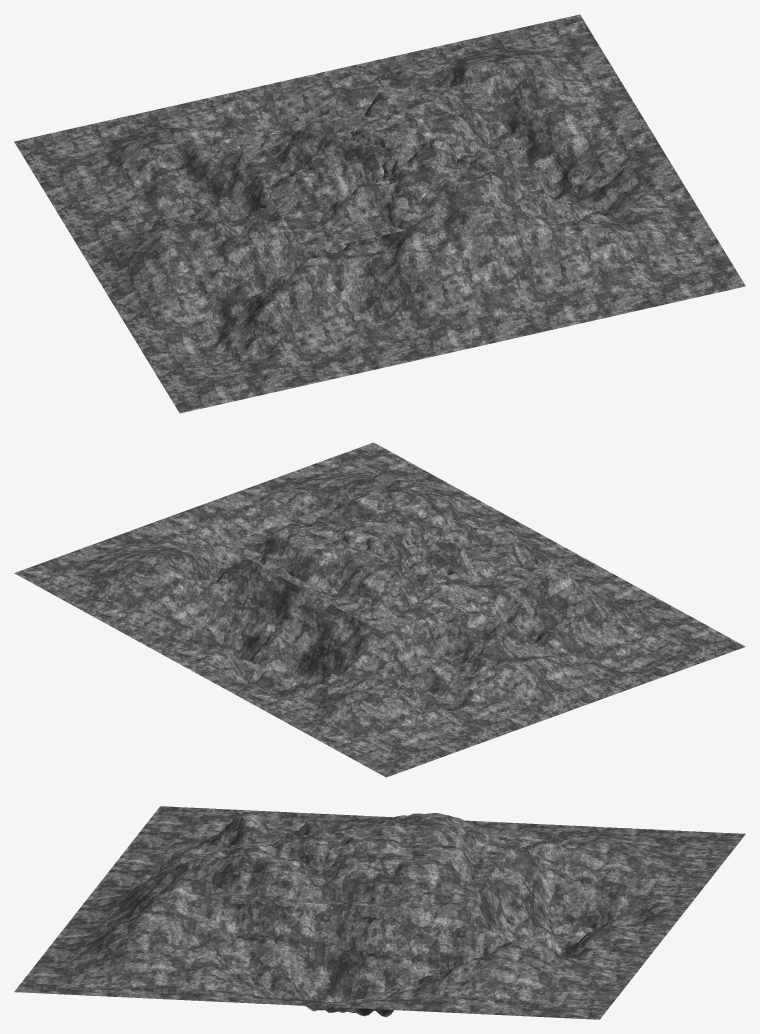
3 views of the same model, one above another, from view 1: azimuth 30°, elevation 25°; view 2: azimuth 150°, elevation 25°; view 3: azimuth 270°, elevation 25° (orthographic). The views are drawn at different scales.
Parts seen in each view (by area): view 1: Landscape.001; view 2: Landscape.001; view 3: Landscape.001.
Part boxes in pixels (x1=…): Landscape.001: x1=14, y1=14, x2=745, y2=413; Landscape.001: x1=14, y1=442, x2=745, y2=777; Landscape.001: x1=14, y1=806, x2=745, y2=1019.
Size of the model in its own units: 884 by 184 by 893.
1 material, 1 textured.
